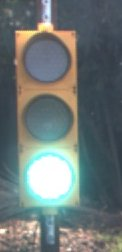Green: (3, 24, 84, 228)
